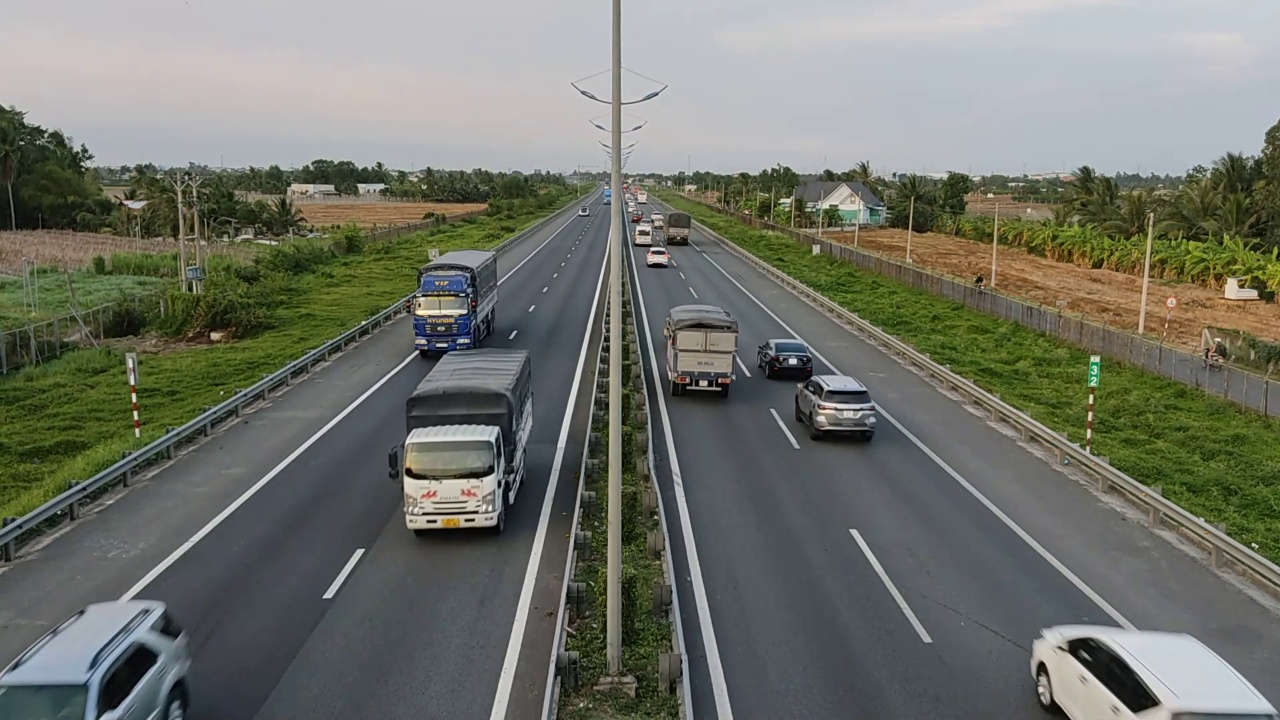car: (1028, 623, 1278, 719), (794, 373, 877, 440), (755, 337, 813, 379), (645, 247, 672, 268)
truck: (385, 346, 537, 536), (410, 248, 499, 359), (663, 303, 739, 397)
